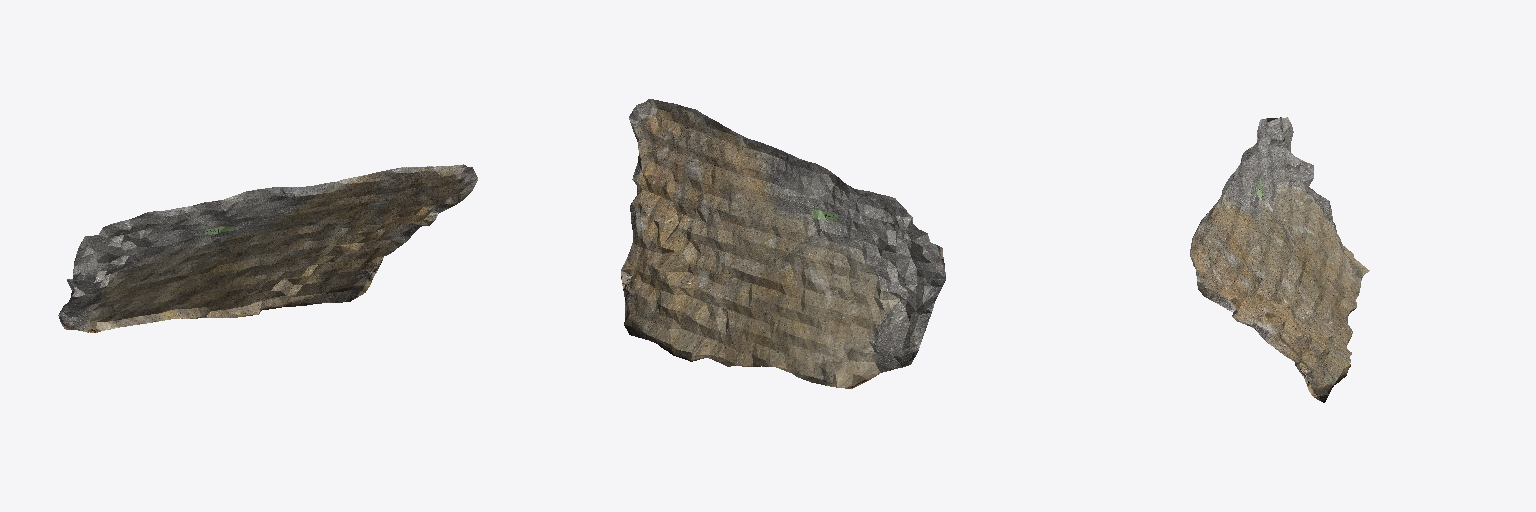
3 renders of one model, left to right at view 1: azimuth 30°, elevation 25°; view 2: azimuth 150°, elevation 25°; view 3: azimuth 270°, elevation 25°, orthographic.
Size of the model in its own units: 650 by 312 by 280.
1 materials, 1 textured.